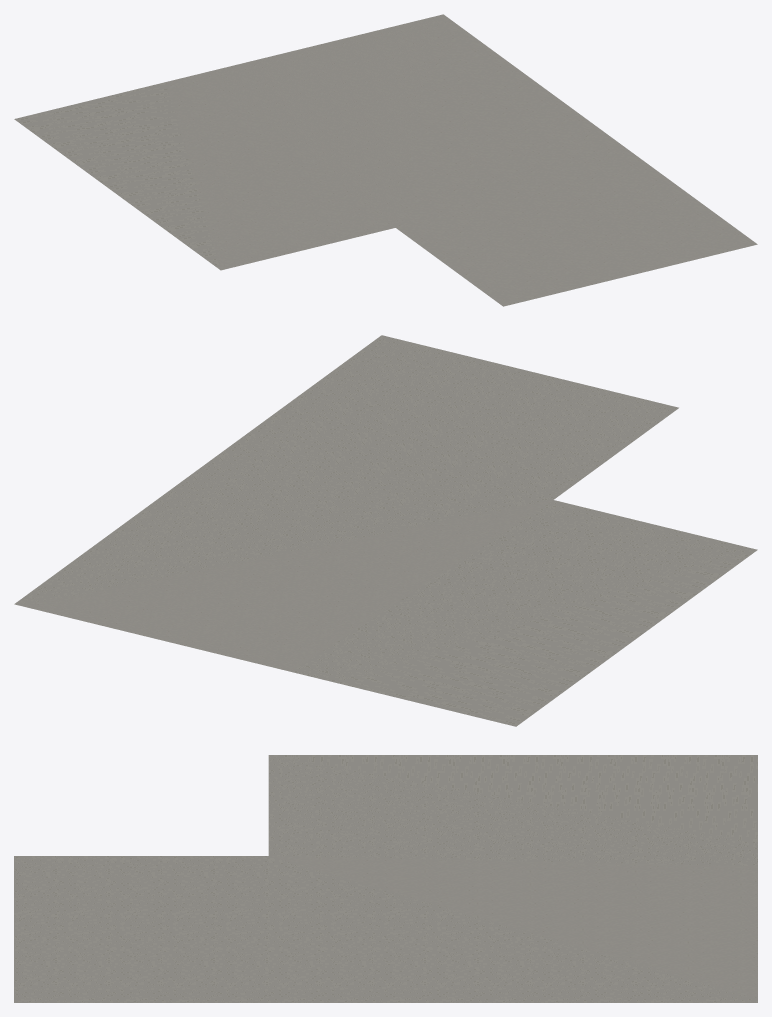
The model's file is kd_stage_135b75_4_19_bounded_portal_piece_3.glb.
3 renders of one model, top to bottom at view 1: azimuth 30°, elevation 25°; view 2: azimuth 150°, elevation 25°; view 3: azimuth 270°, elevation 25°, orthographic. The views are drawn at different scales.
Parts seen in each view (by area): view 1: kd_stage_135b75_4_19_bounded_portal_piece_3; view 2: kd_stage_135b75_4_19_bounded_portal_piece_3; view 3: kd_stage_135b75_4_19_bounded_portal_piece_3.
Part boxes in pixels (left/top/right/bottom): kd_stage_135b75_4_19_bounded_portal_piece_3: left=14, top=14, right=757, bottom=306; kd_stage_135b75_4_19_bounded_portal_piece_3: left=14, top=335, right=757, bottom=726; kd_stage_135b75_4_19_bounded_portal_piece_3: left=14, top=755, right=757, bottom=1002.
Bounding box in the file's own units: 3.69 × 2.38e-07 × 4.68.
Materials: 1 (1 with a texture image).
